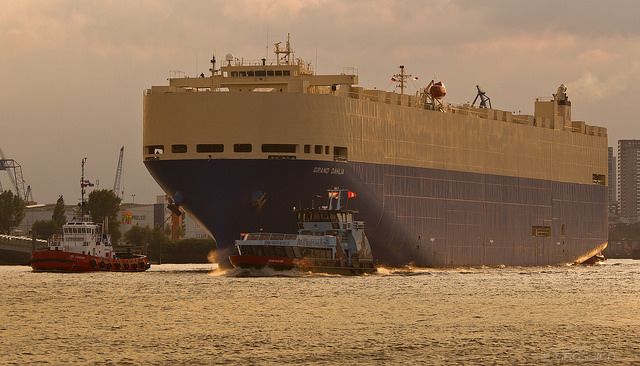PCC: (138, 40, 613, 263)
tug_boat: (33, 159, 149, 267), (231, 185, 378, 270)
